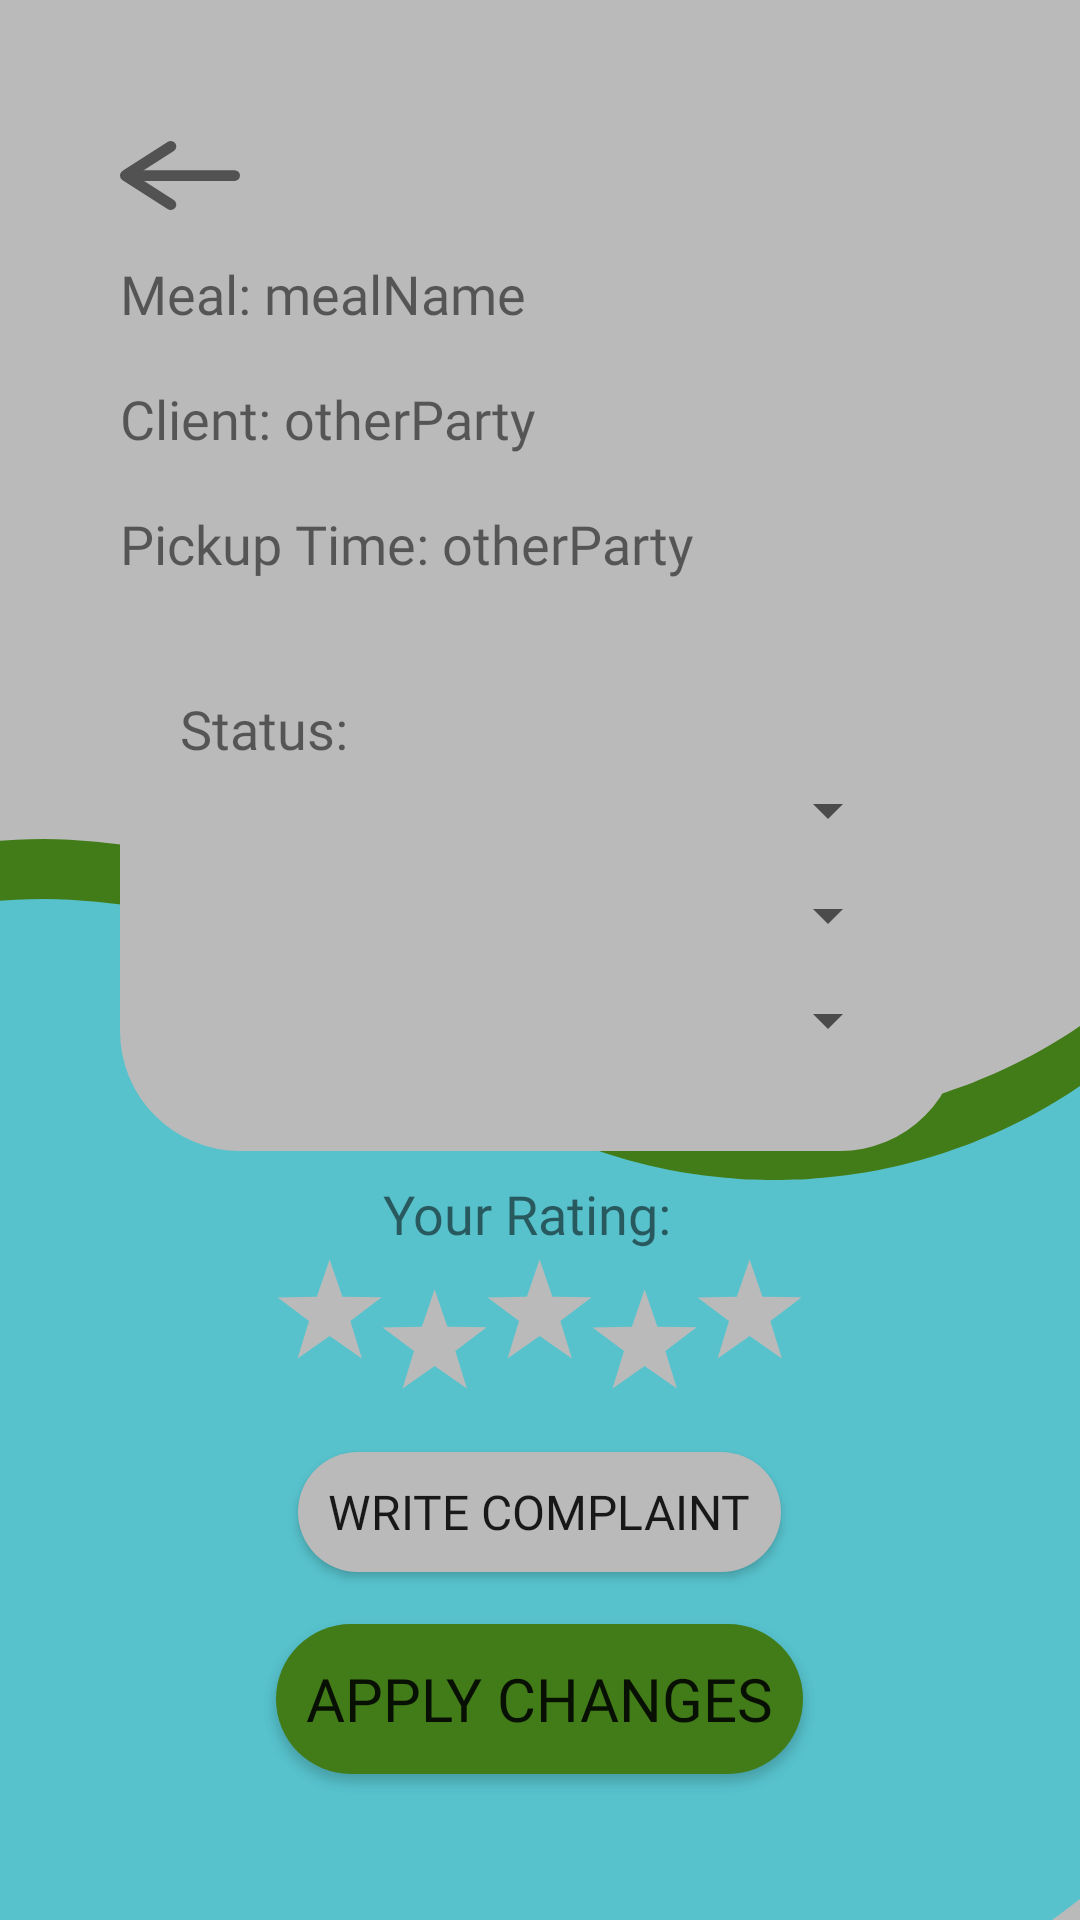

Icon bounding boxes for this 1080 x 1920 phone screenshot, format rect(x1, y1, x2, y2):
arrow: rect(120, 141, 240, 210)
